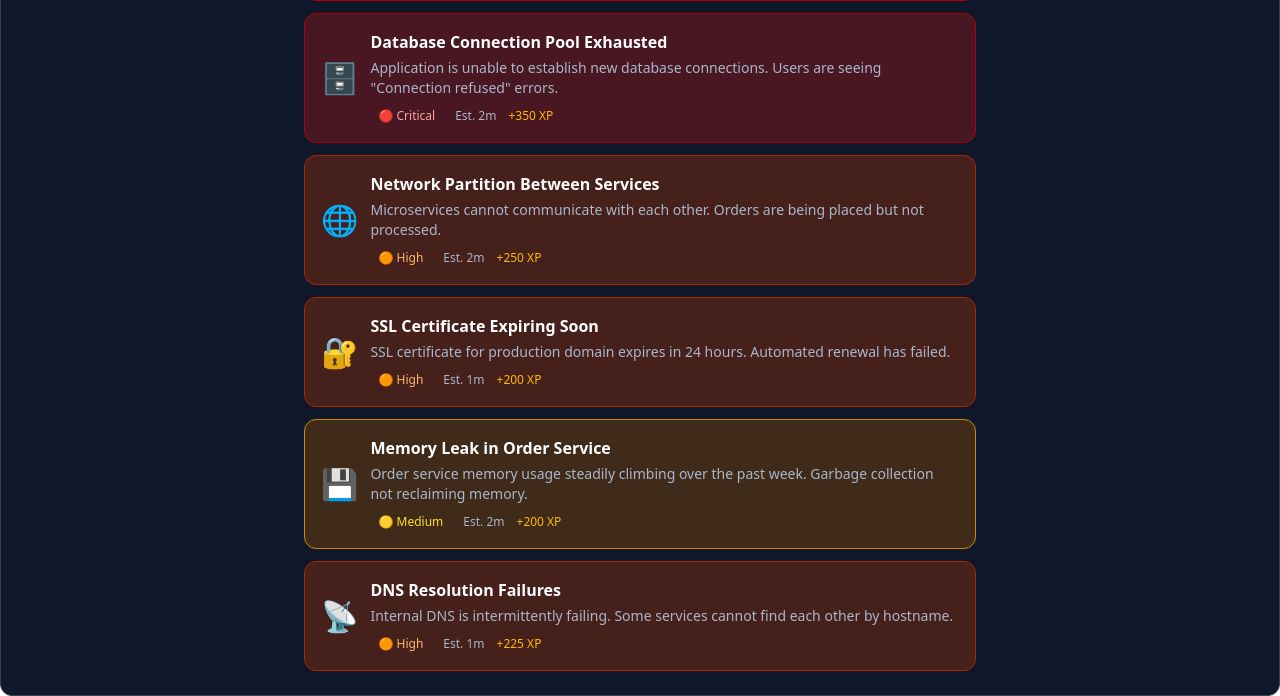
Test: IncidentSimulator › walks the resolution phase once diagnostics are done
(page scrolled)
Click the button "SSL Certificate Expiring Soon": (640, 352) 304,297 -> 976,407
(page scrolled)
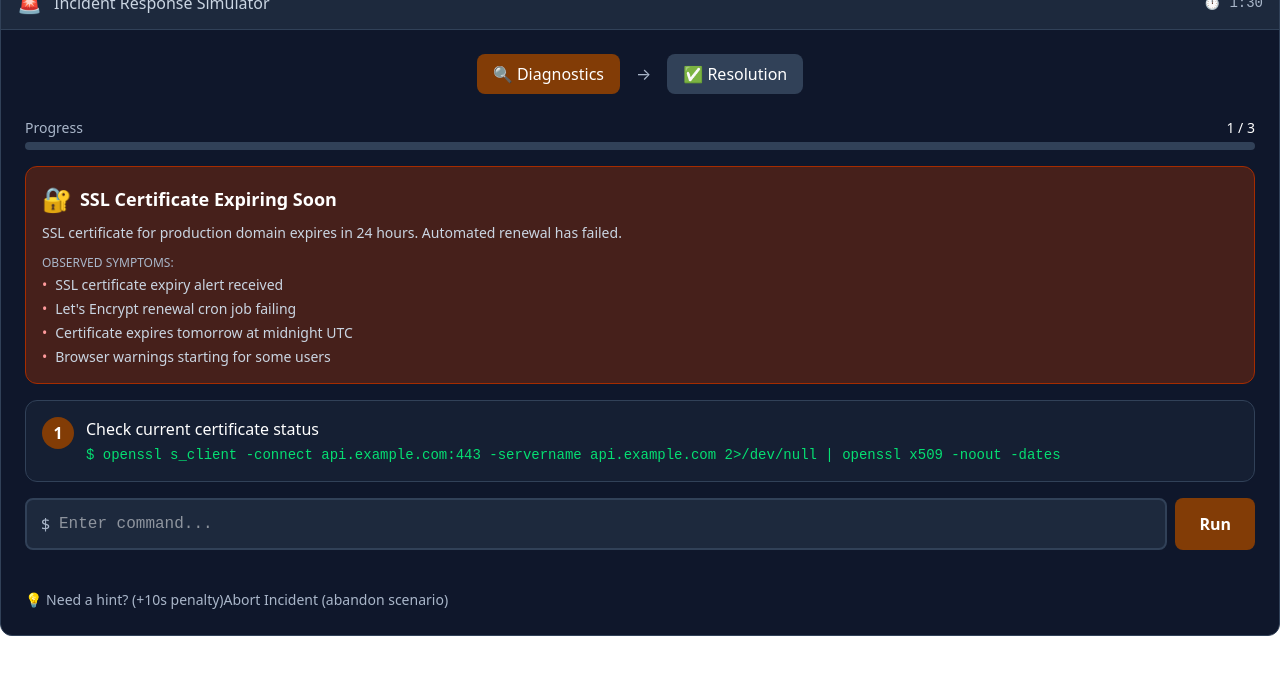
In the field with placeholder "Enter command...": (596, 524) 25,498 -> 1167,550, type "openssl s_client -connect api.example.com:443 -servername api.example.com 2>/dev/null | openssl x509 -noout -dates"
Click the button "Run": (1215, 524) 1175,498 -> 1255,550
Wait 1500 ms
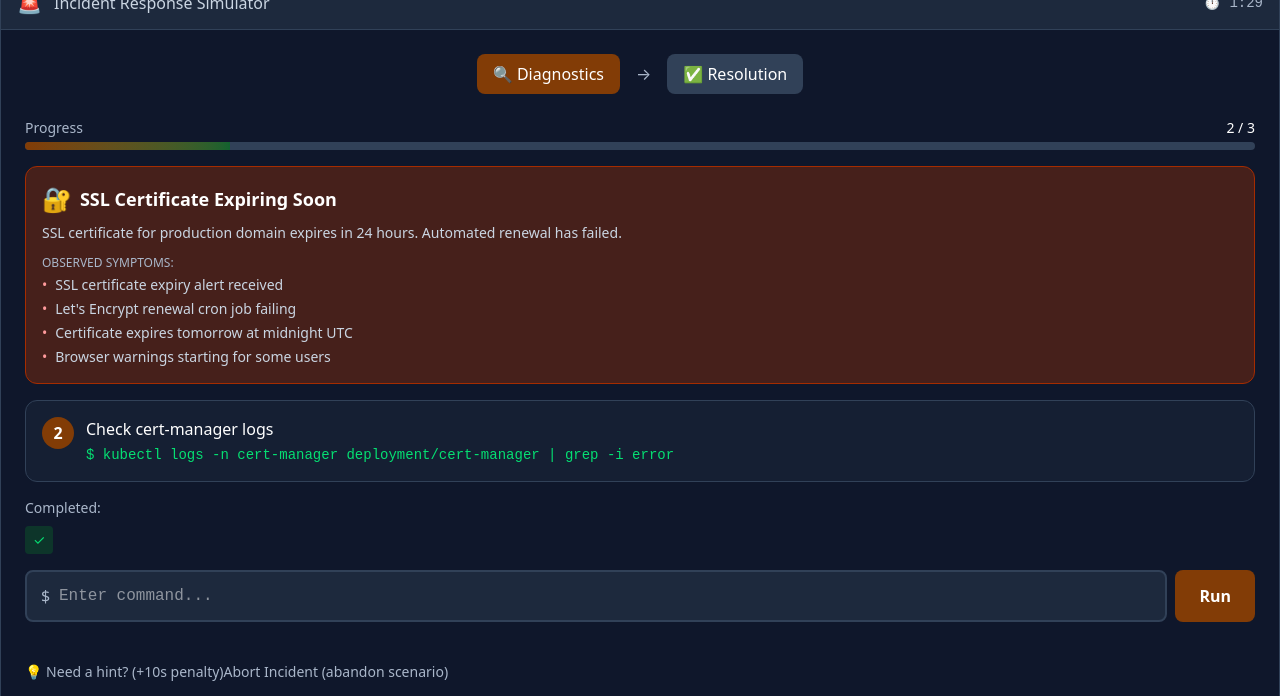
In the field with placeholder "Enter command...": (596, 596) 25,570 -> 1167,622, type "kubectl logs -n cert-manager deployment/cert-manager | grep -i error"
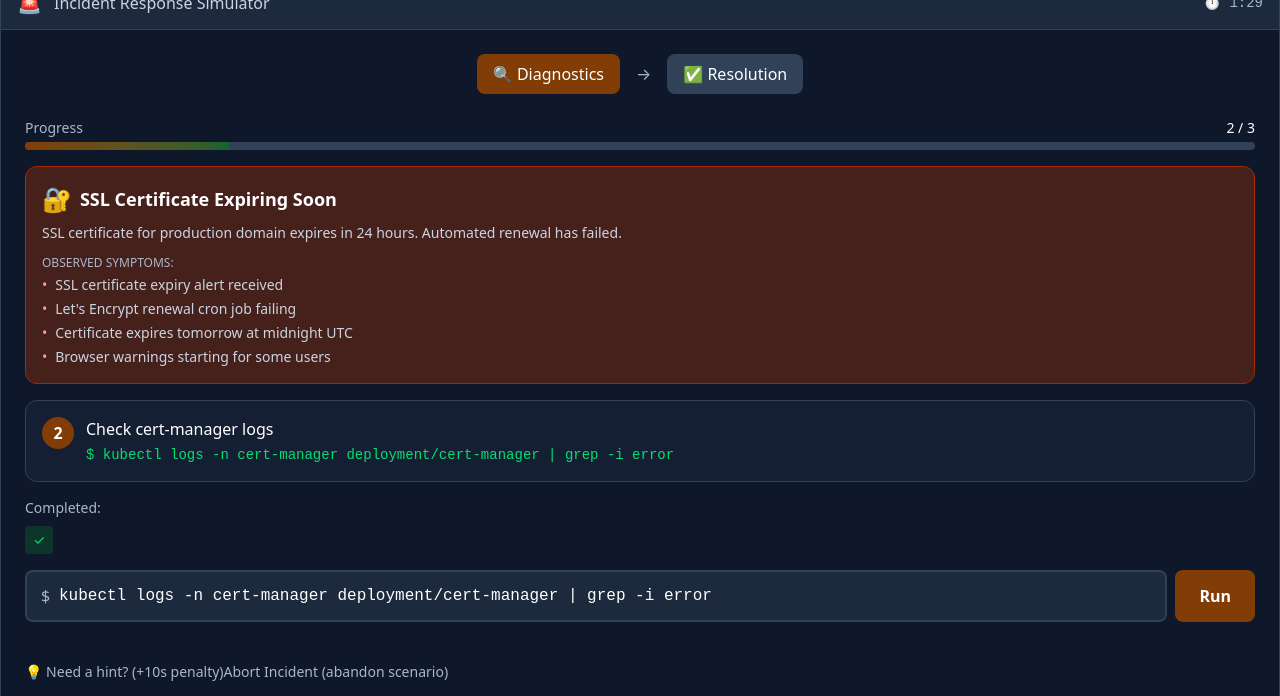
Click the button "Run": (1215, 596) 1175,570 -> 1255,622
Wait 1500 ms
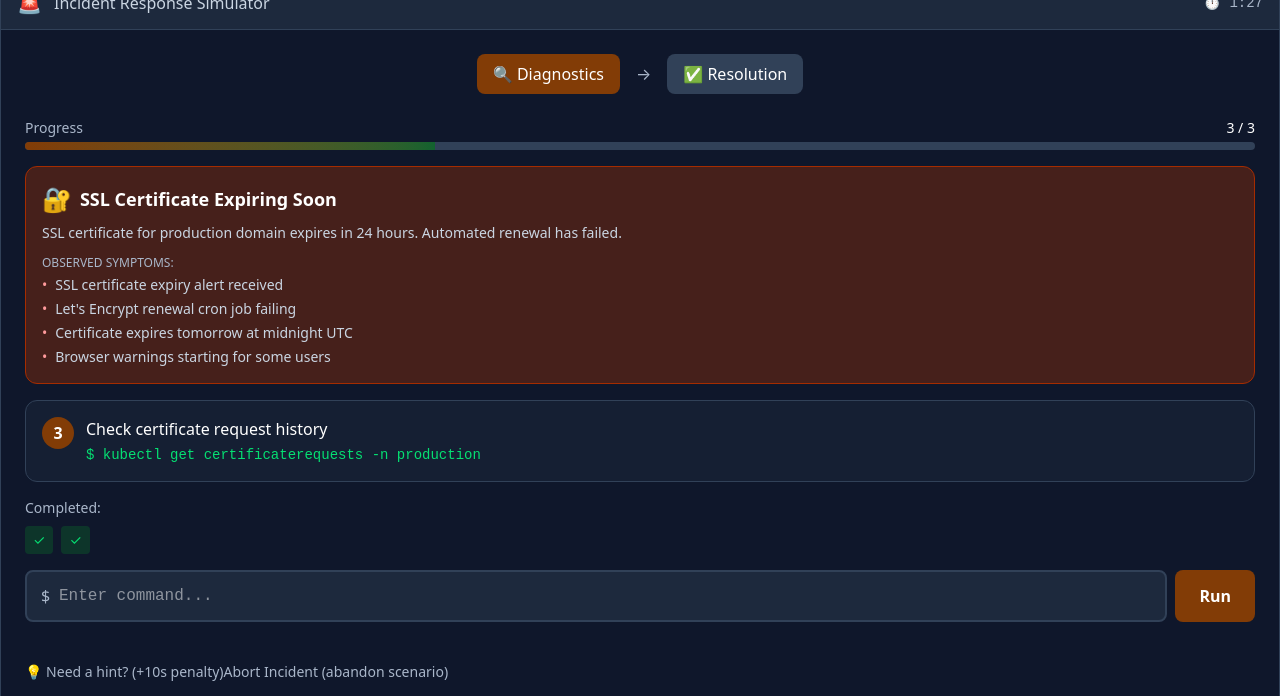
In the field with placeholder "Enter command...": (596, 596) 25,570 -> 1167,622, type "kubectl get certificaterequests -n production"
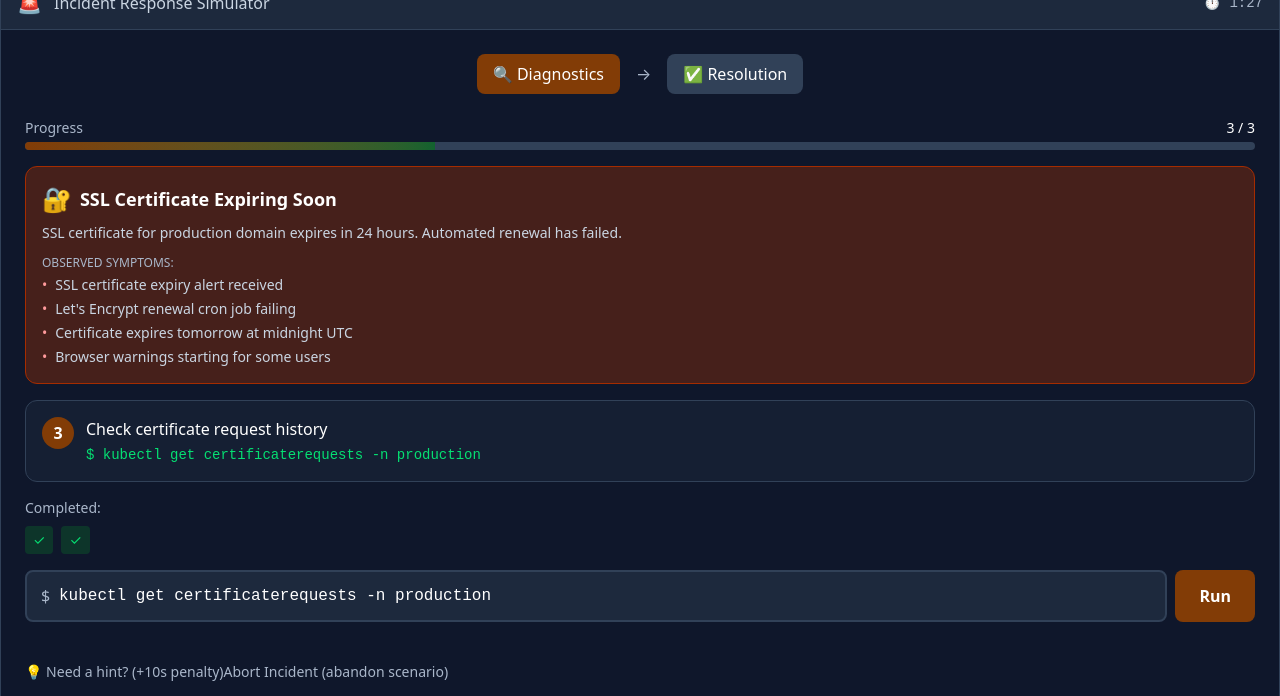
Click the button "Run": (1215, 596) 1175,570 -> 1255,622
Wait 1500 ms
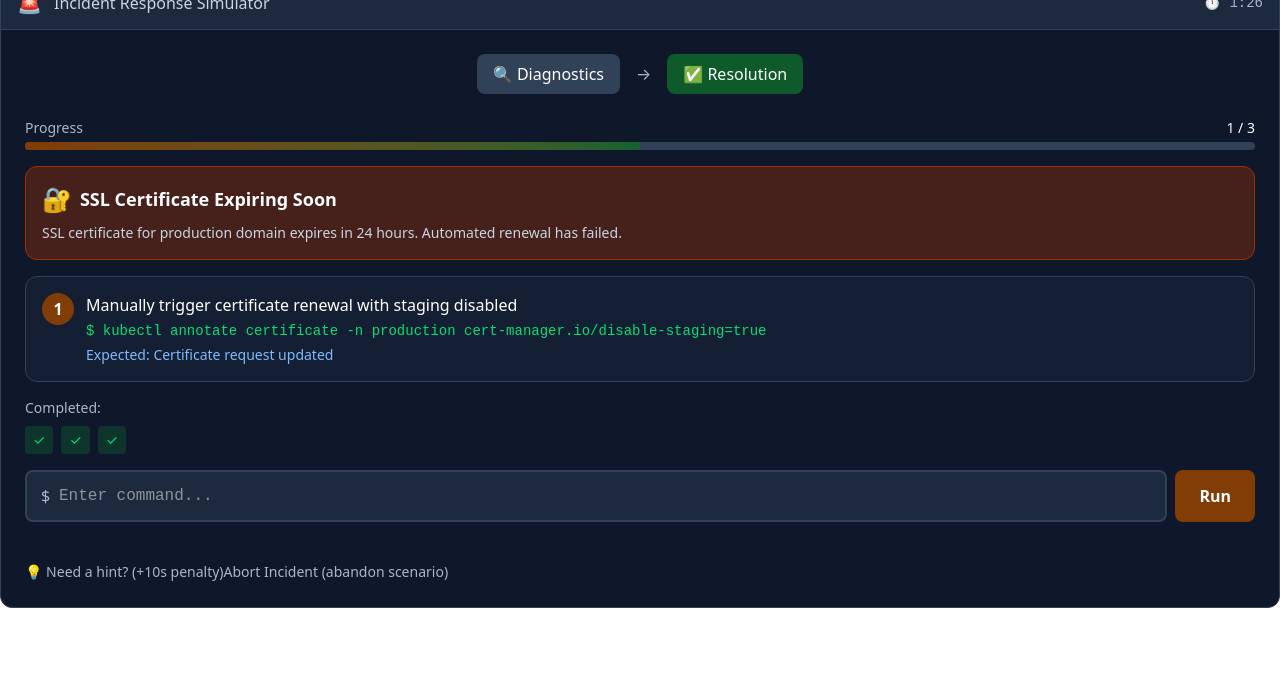
Check: the text "✅ Resolution" is shown, box 683,63 -> 787,85
Check: the text "Manually trigger certificate renewal with staging disabled" is shown, box 86,294 -> 517,316
